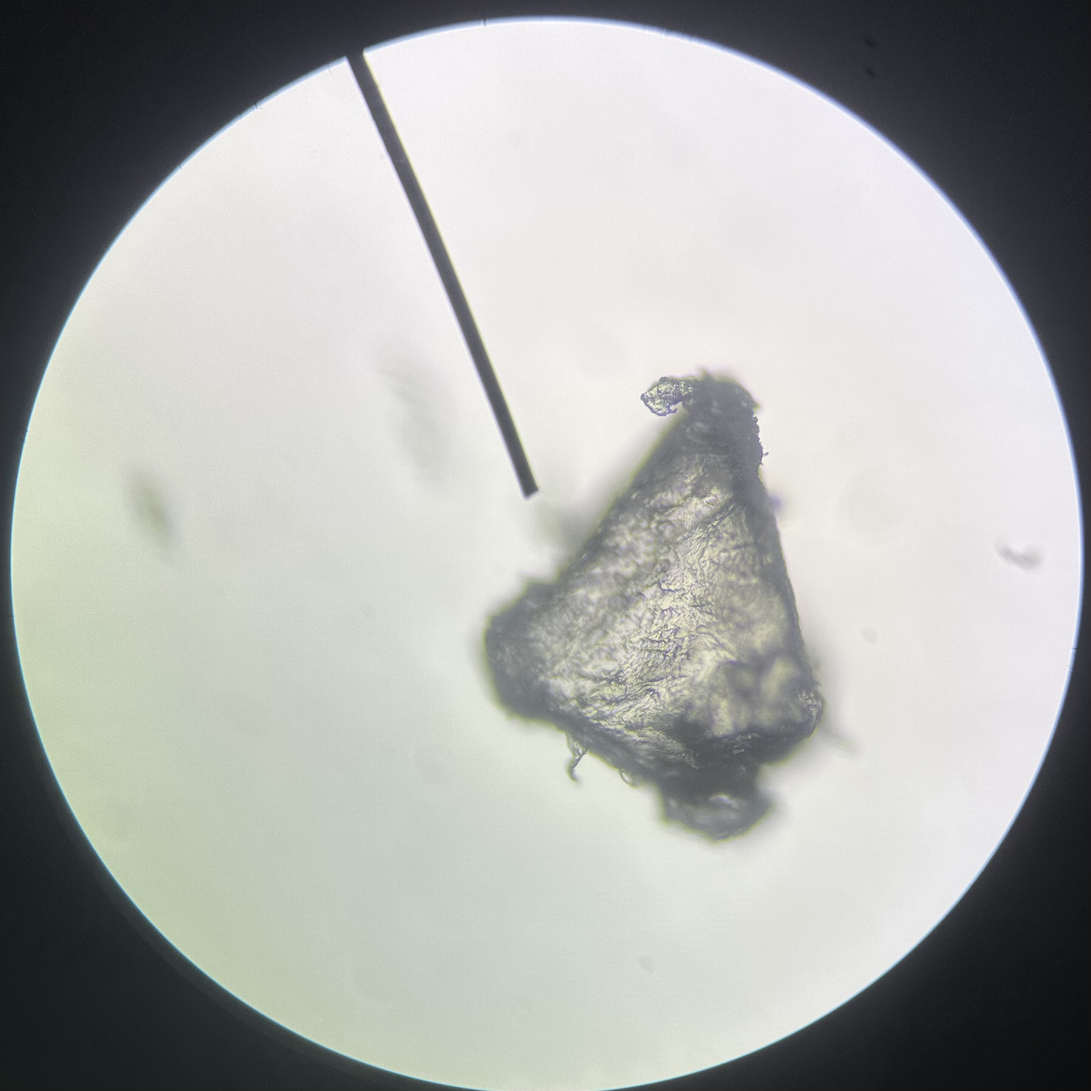microplastic: (483, 366, 831, 844)
